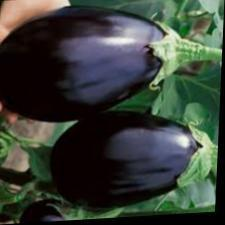eggplant: (0, 0, 216, 127), (55, 108, 220, 210)
